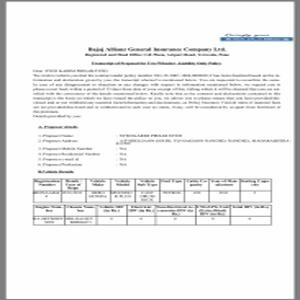image: (218, 33, 296, 45)
table: (32, 175, 274, 205), (32, 202, 273, 225)
text: (38, 124, 290, 175), (30, 68, 281, 118), (82, 46, 232, 66)
